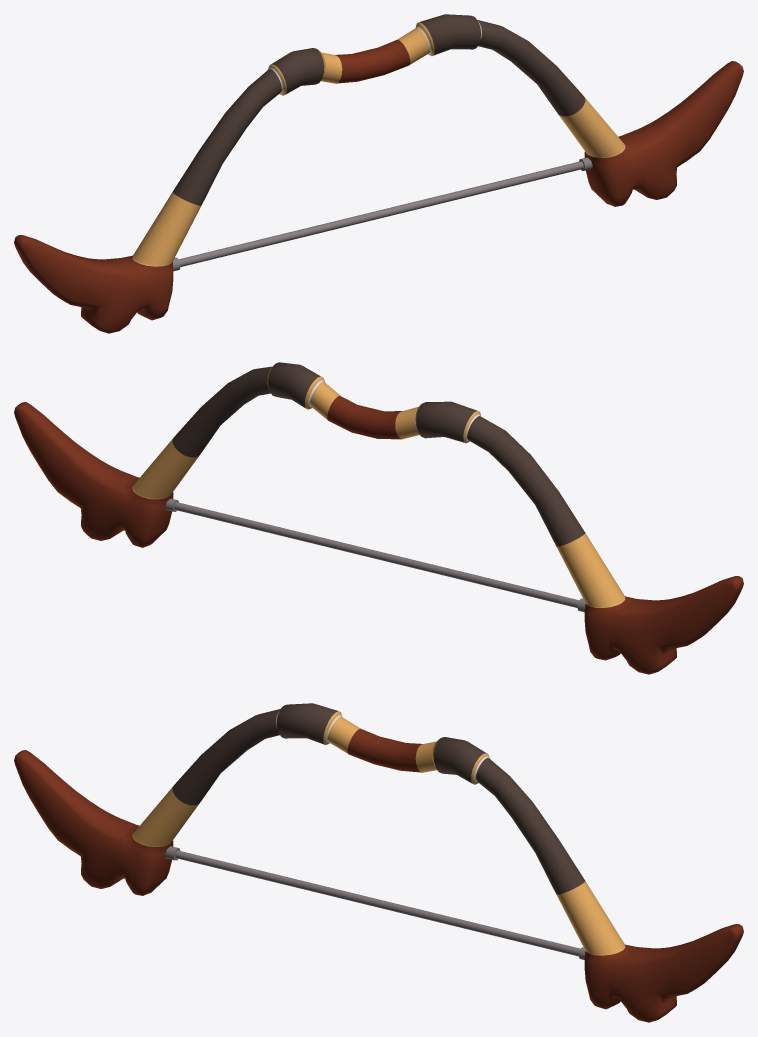
Rendered from bow_2.fbx.
The picture shows the model from 3 angles, top to bottom: view 1: azimuth 30°, elevation 25°; view 2: azimuth 150°, elevation 25°; view 3: azimuth 330°, elevation 25°; orthographic projection.
Parts seen in each view (by area): view 1: bow.002, bow.001; view 2: bow.002, bow.001; view 3: bow.002, bow.001.
Boxes of the visible parts, x1,y1,x2,y2 form: bow.002: [14, 14, 743, 333]; bow.001: [172, 157, 592, 271]; bow.002: [14, 362, 743, 674]; bow.001: [165, 498, 585, 612]; bow.002: [14, 703, 743, 1022]; bow.001: [165, 846, 585, 959].
Size of the model in its own units: 347 by 101 by 26.27.
